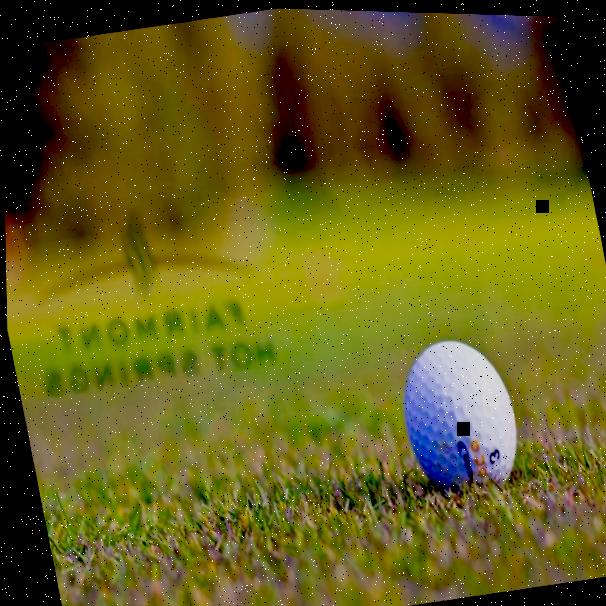GolfBall: (370, 305, 541, 508)
